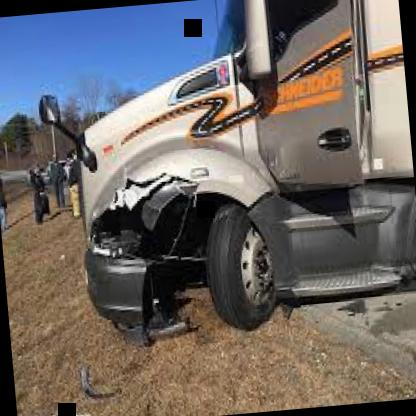accident: (6, 0, 378, 384)
